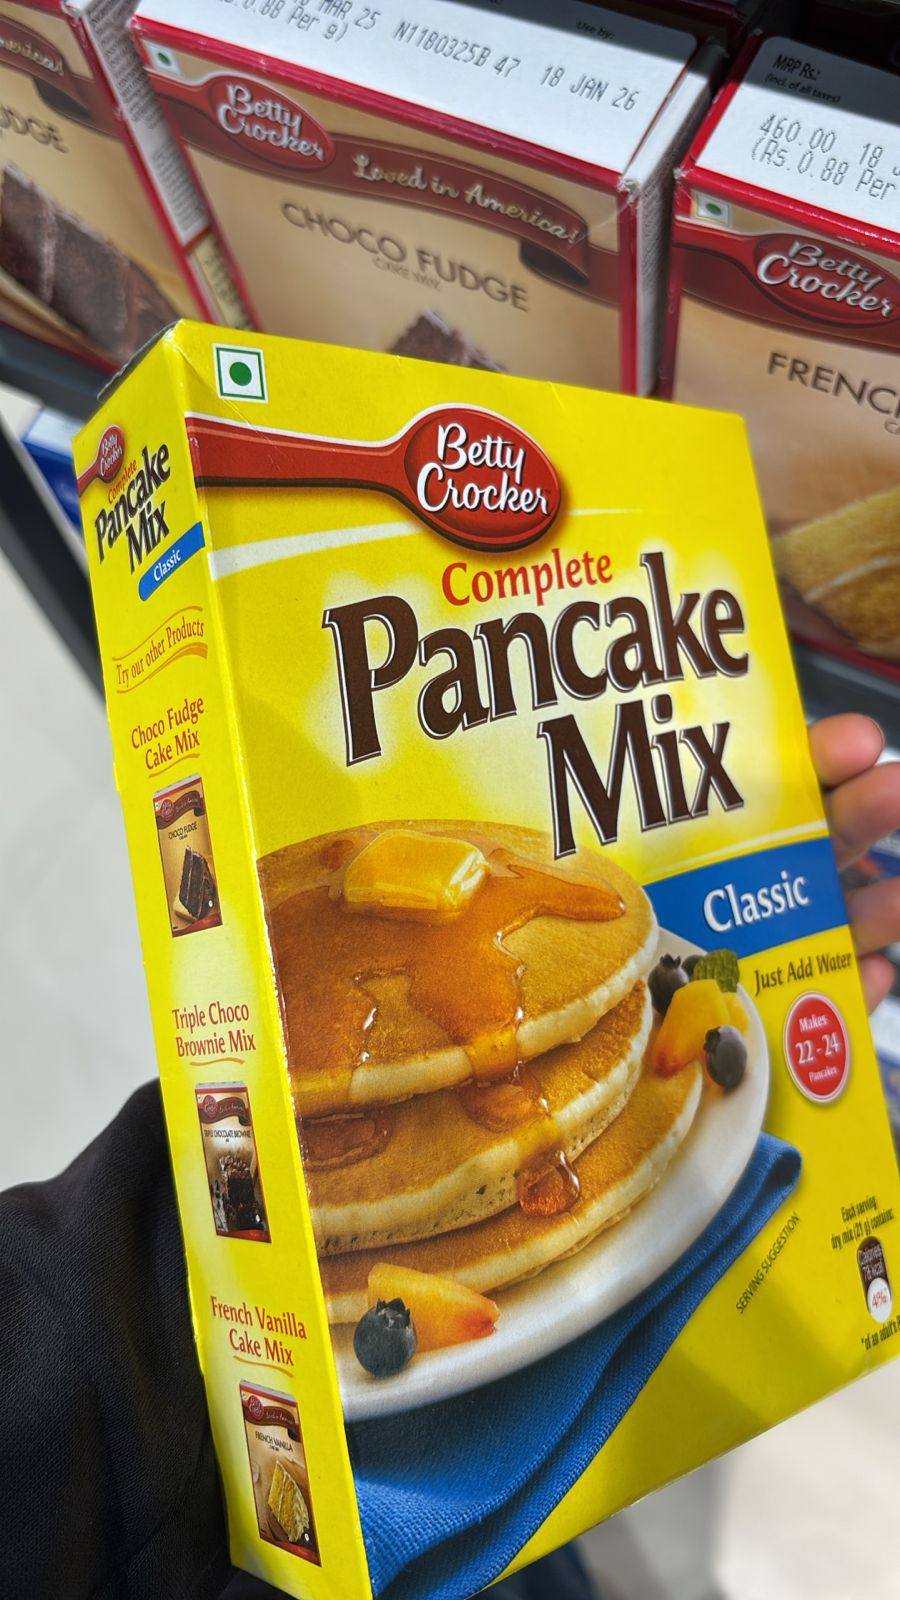Betty Crocker Pancake Mix: (66, 348, 884, 1590)
